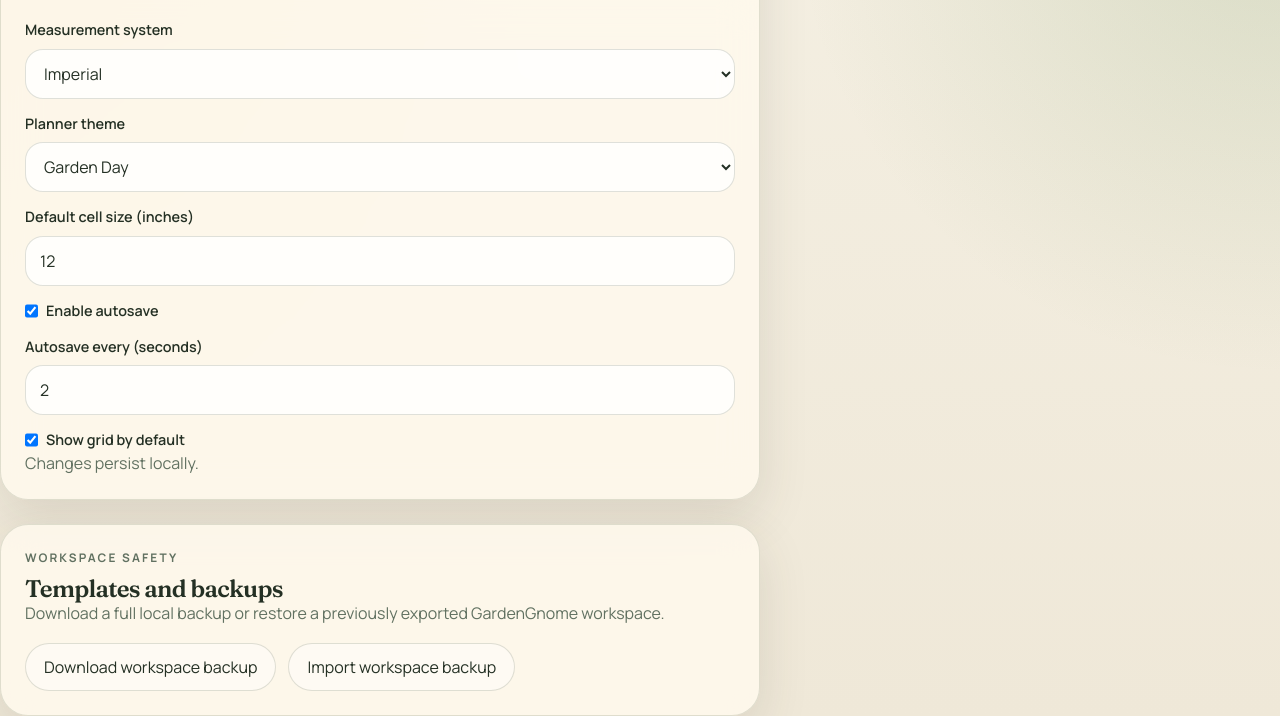
Test: SettingsPage workspace backup tools › restores a workspace backup and reports how many plans were imported
(page scrolled)
What coordinates should you click on to do the following:
click the button "Import workspace backup"
I would click on:
 (402, 667)
Its box is [288,643,515,691].
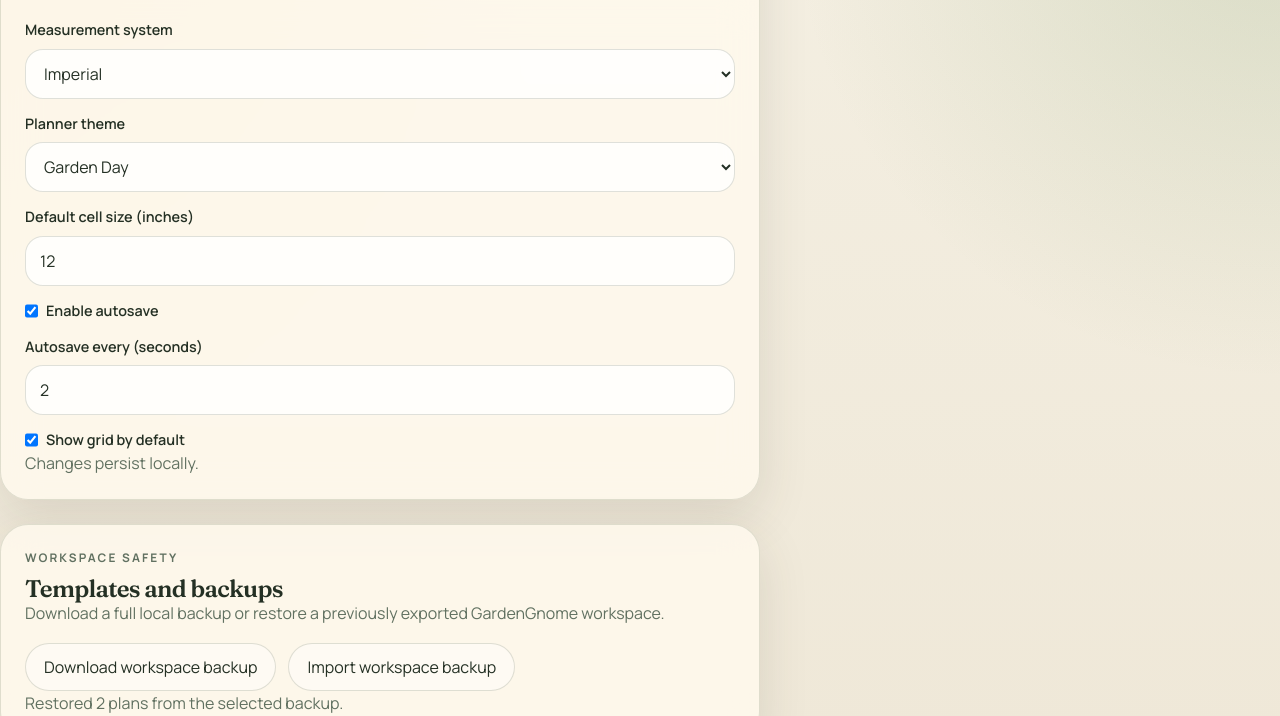
Expected: the text "Restored 2 plans from the selected backup." is shown, [25,692,343,714]
